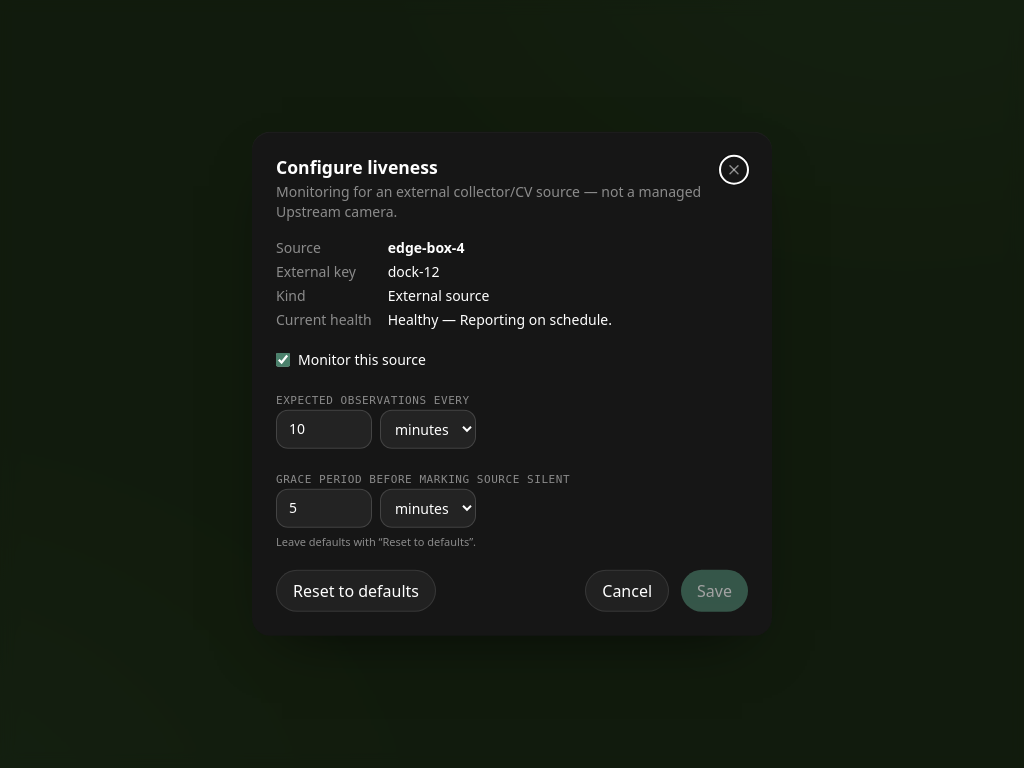
Test: ConfigureLivenessModal › failure keeps the modal open and shows the error
This screenshot has width=1024, height=768.
Replace the text in the number field named "Expected interval value" with "5" at (324, 429), box left=276, top=410, right=372, bottom=449
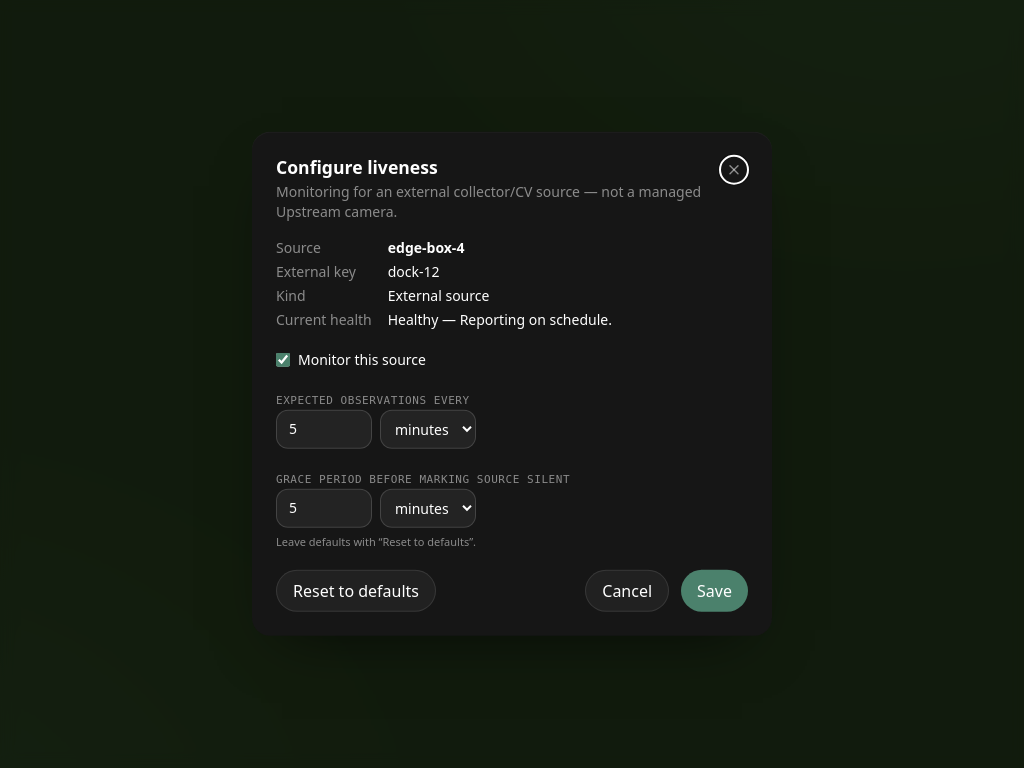
Click the button "Save".
click(715, 591)  # box left=681, top=570, right=748, bottom=612
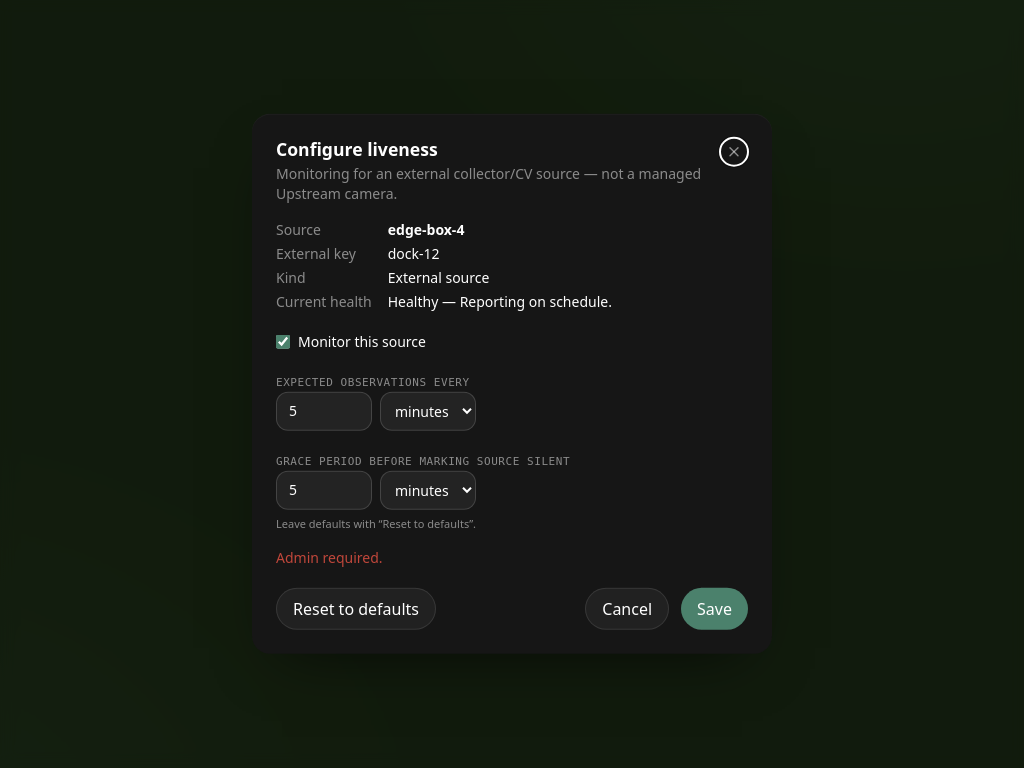
Expected: the text "Admin required." is shown, left=276, top=548, right=383, bottom=567
